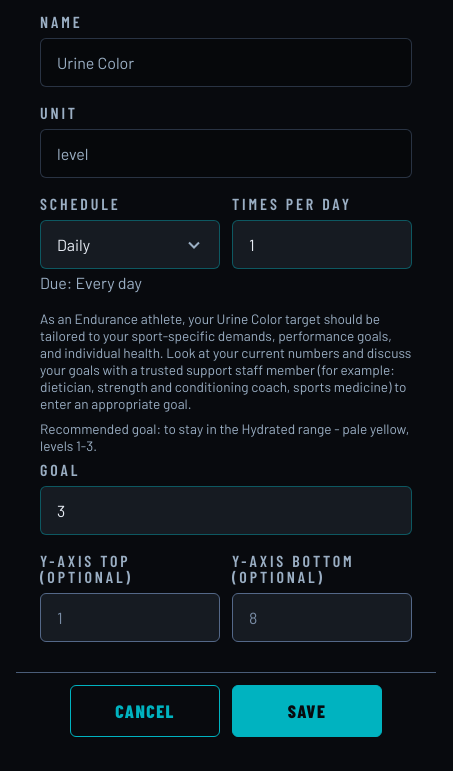
Test: MetricOverrideForm › rejects a goal outside the metric's [min, max] range
This screenshot has width=453, height=771.
Replace the text in the number field labelled "Goal" with "99" at {"x": 226, "y": 510}, box [40, 486, 412, 535]
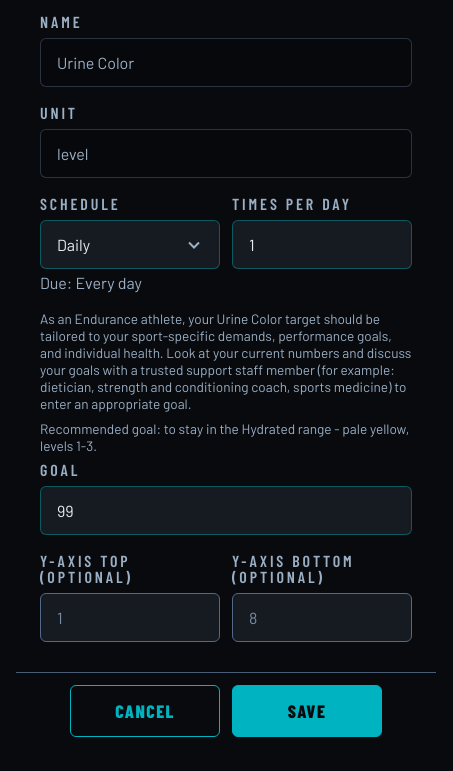
Click the button "Save" at {"x": 307, "y": 711}, box [232, 685, 382, 737]
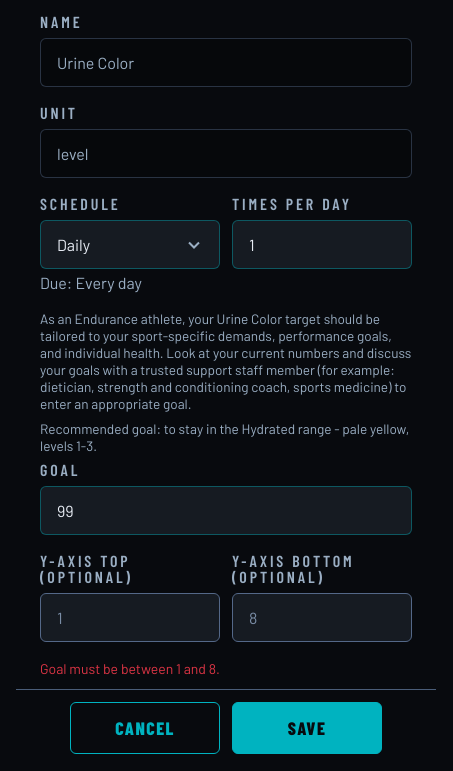
Expected: the text "Goal must be between 1 and 8." is shown, [40, 660, 220, 677]
